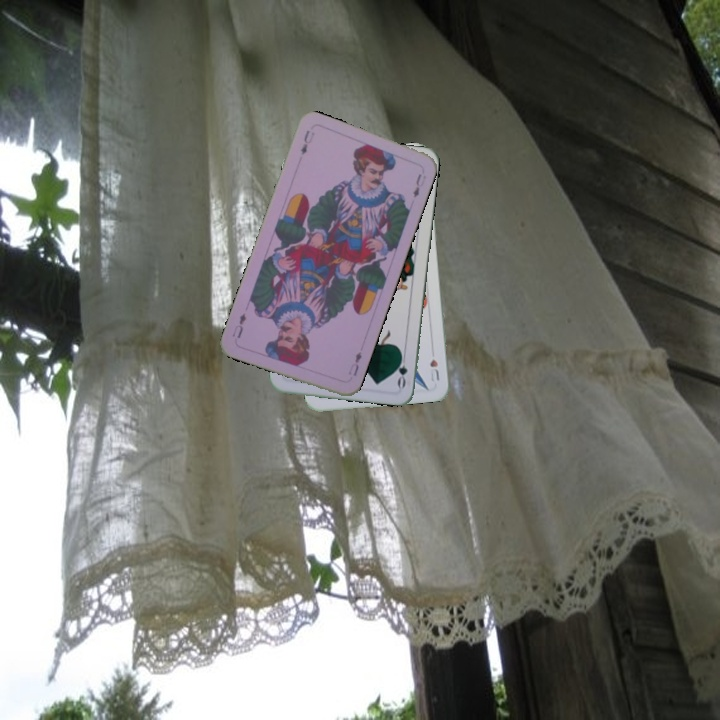EU: (297, 126, 317, 158), (344, 348, 364, 379)
GO: (393, 349, 410, 390)
HU: (426, 355, 442, 384)
